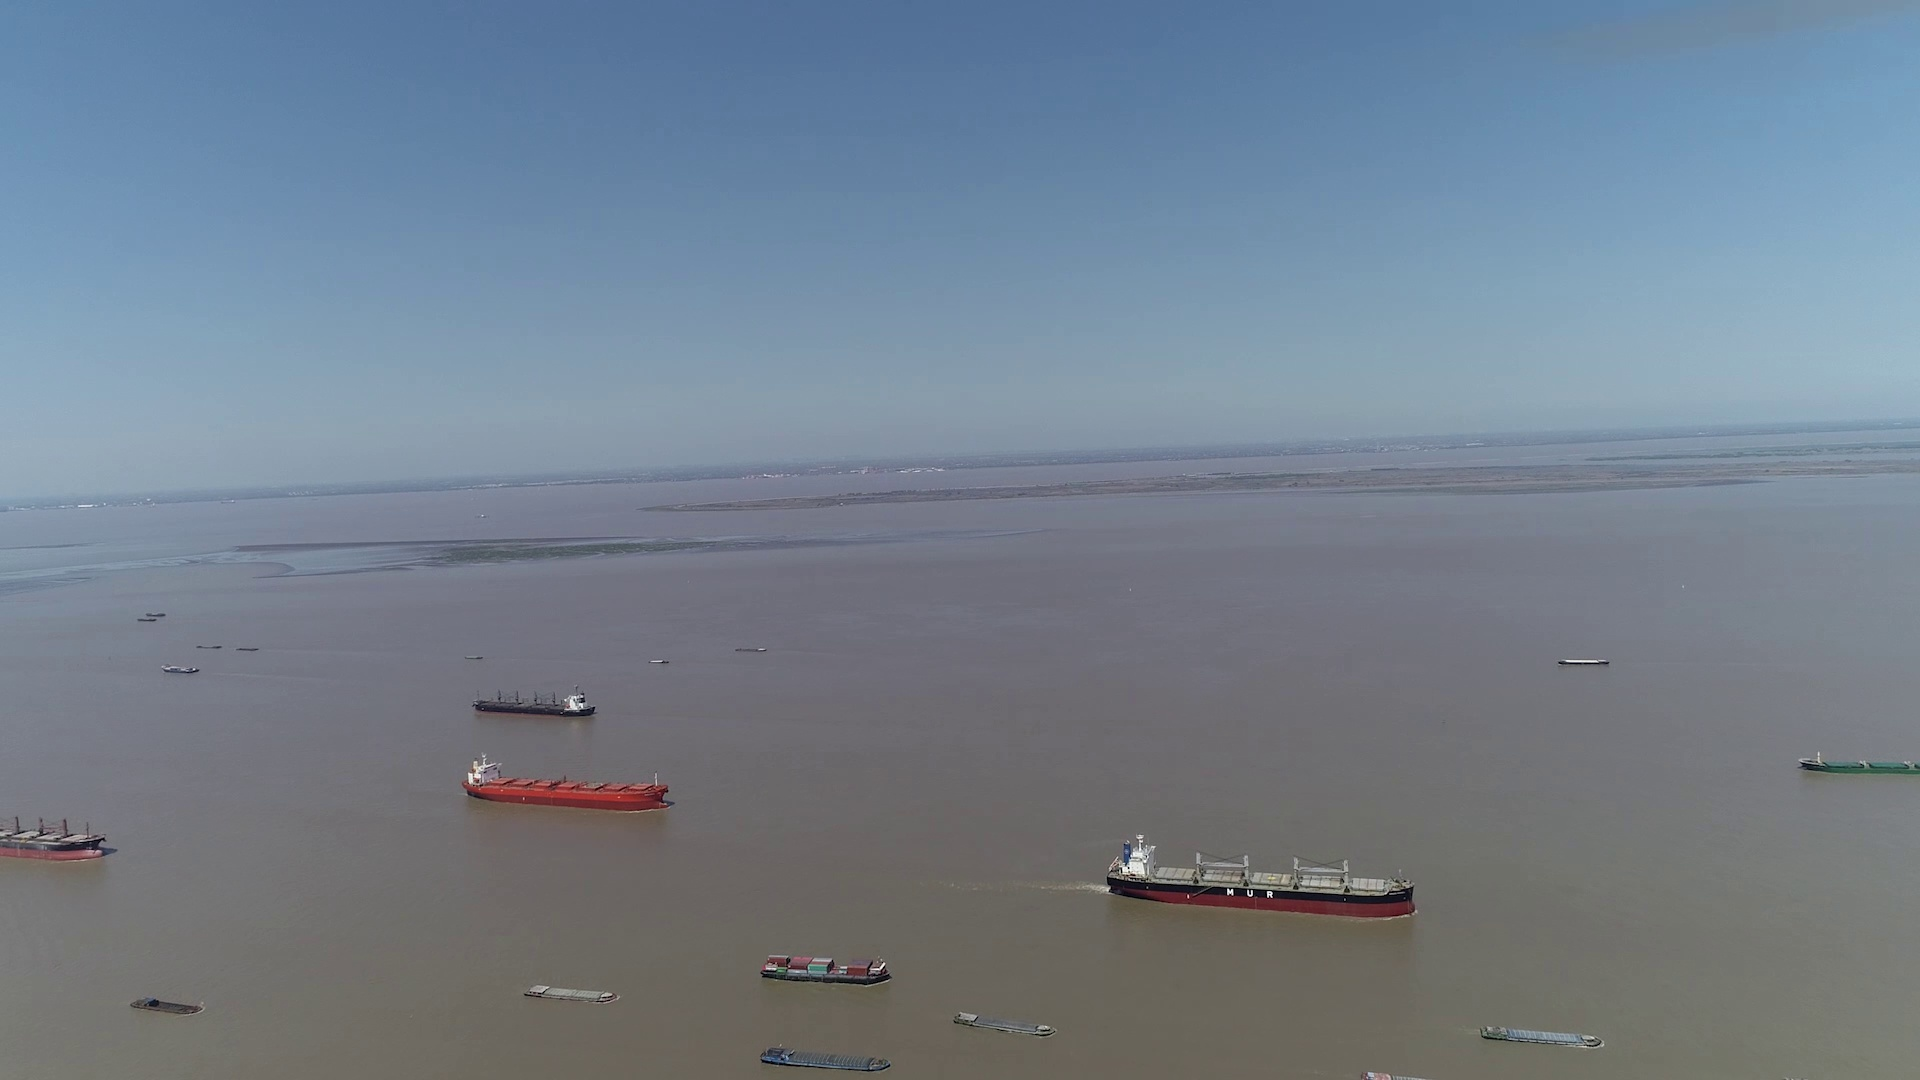ship: (1109, 833, 1415, 918), (463, 750, 669, 810), (3, 806, 111, 861), (760, 949, 891, 984), (473, 683, 593, 717), (760, 1046, 895, 1072), (1480, 1025, 1604, 1048), (1797, 752, 1919, 774), (953, 1010, 1056, 1036), (524, 982, 618, 1004), (131, 997, 204, 1015), (1557, 658, 1606, 667), (162, 663, 200, 673)
